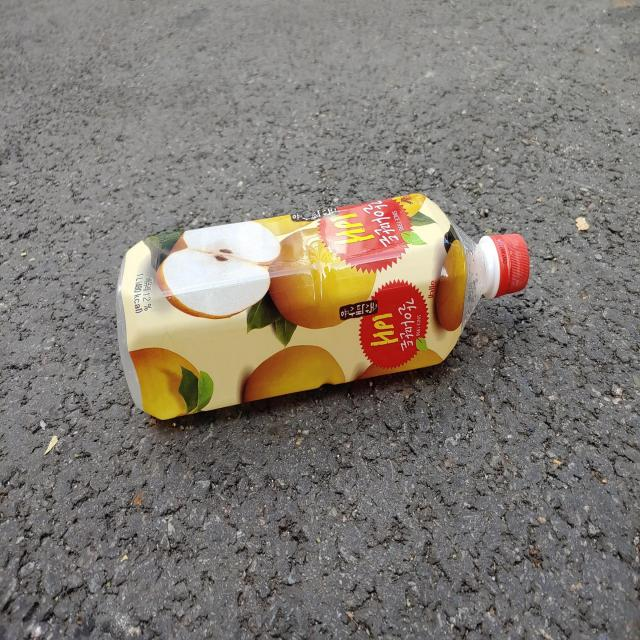plastic: (115, 193, 530, 419)
